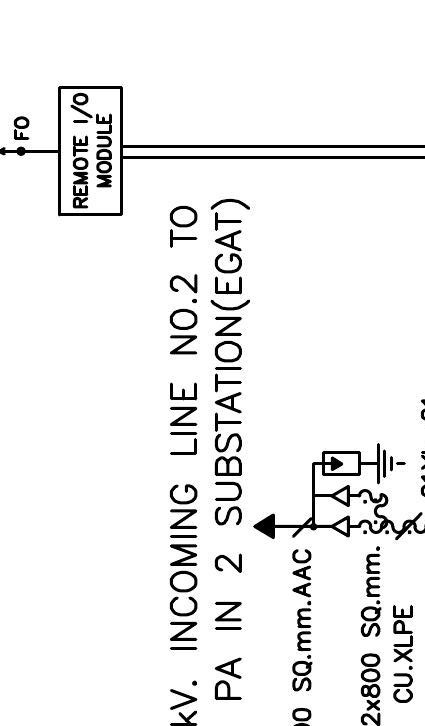115_la: (322, 442, 407, 485)
remote_io_module: (58, 86, 123, 217)
terminator_double: (311, 484, 351, 539)
